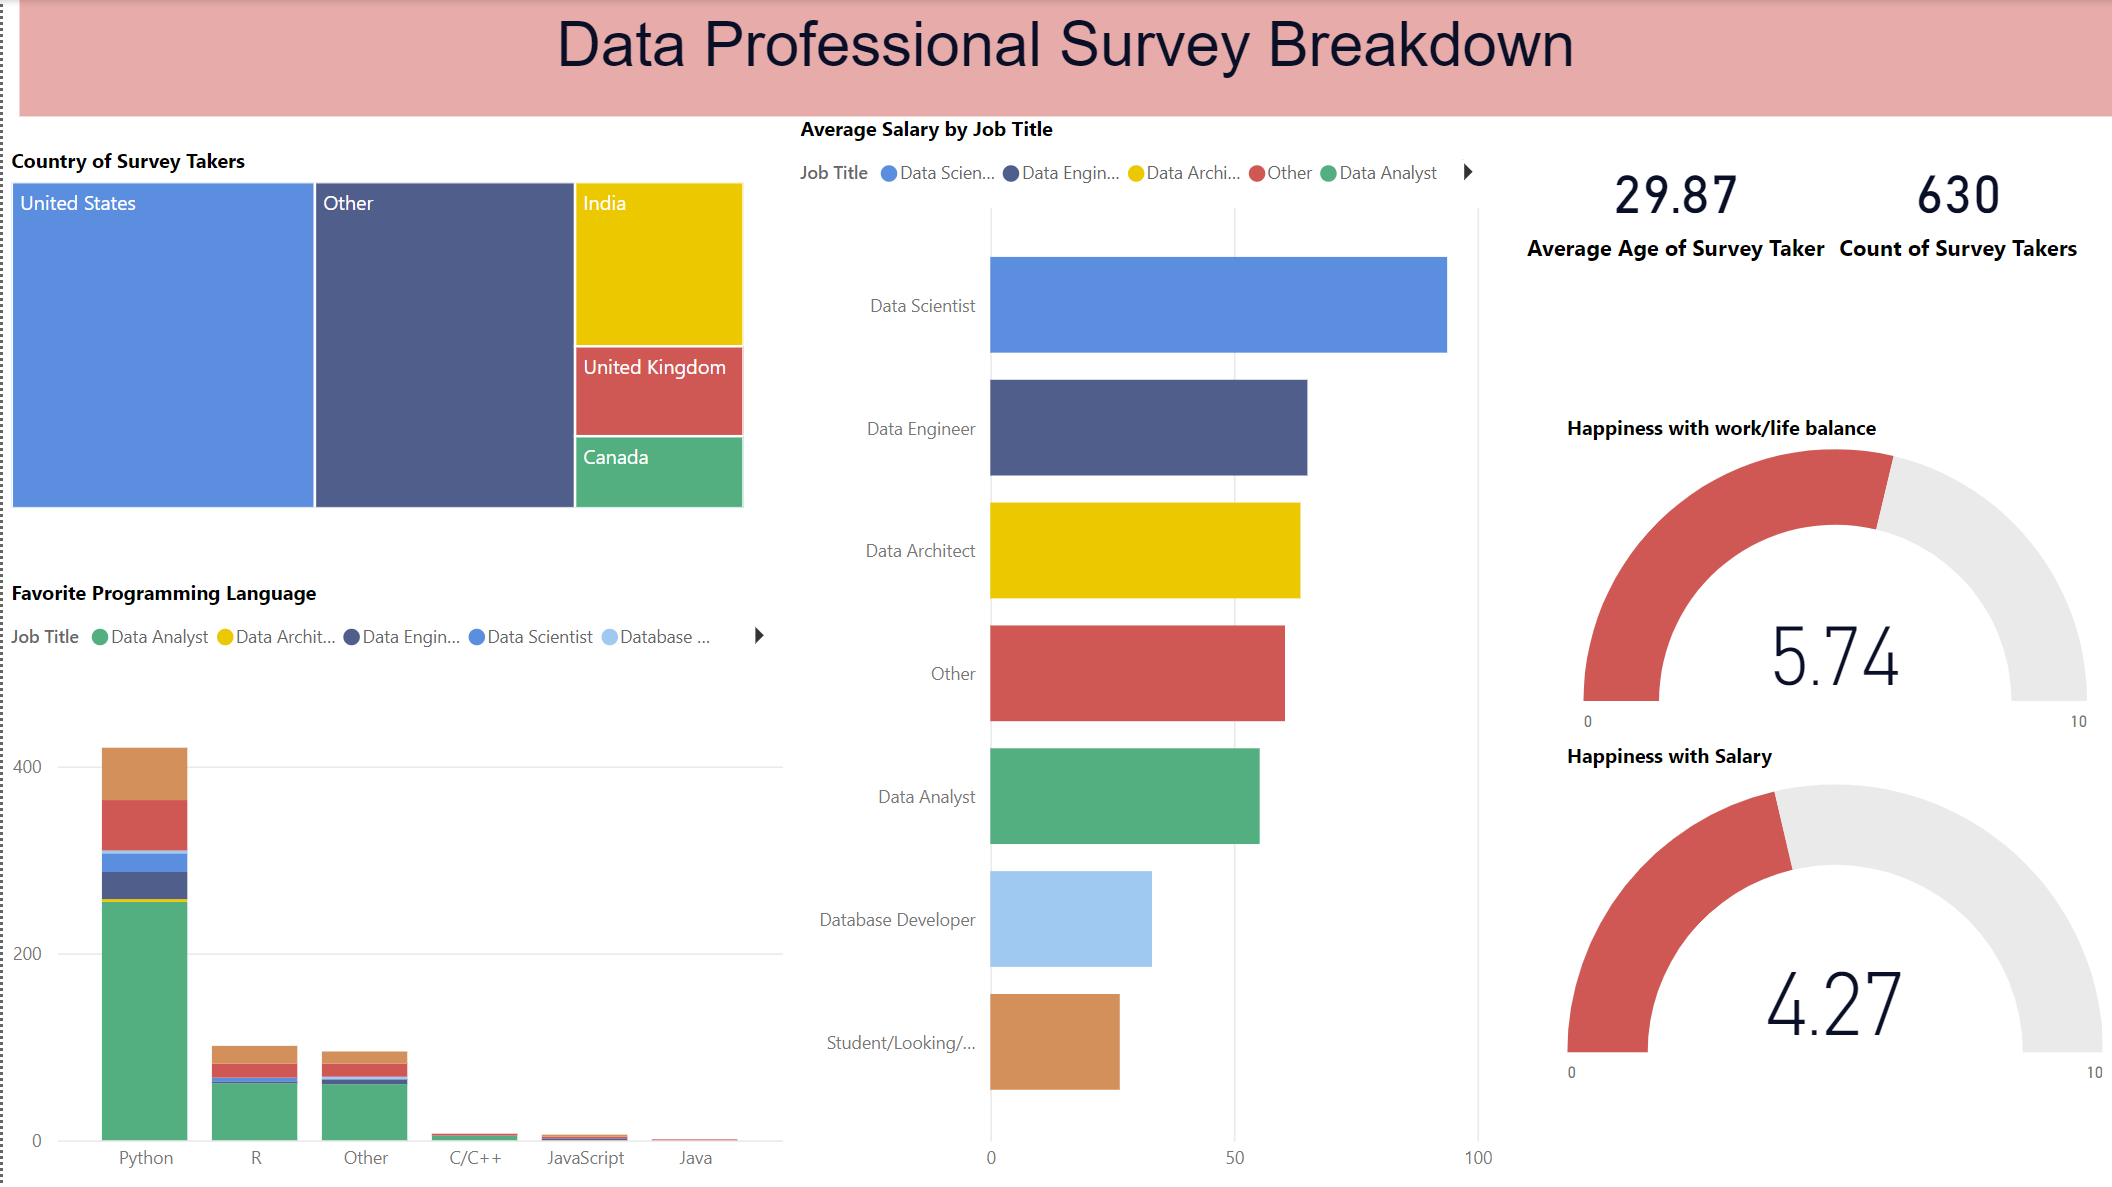

What the dashboard file says about the page in this screenshot:
{"tool":"powerbi","page":{"name":"Page 1","canvas":[1280,720],"ordinal":0},"visuals":[{"type":"textbox","box":[9.7,0,1269.8,70.8],"z":0},{"type":"card","fields":{"Values":["Count(Data Professional Survey.Unique ID)"]},"box":[1092.6,71.1,187.8,106.1],"z":1000},{"type":"card","fields":{"Values":["Avg(Data Professional Survey.Q10 - Current Age)"]},"box":[897.4,71.1,234.4,106.1],"z":2000},{"type":"barChart","title":"Average Salary by Job Title","fields":{"Y":["Avg(Data Professional Survey.Average Salary)"],"Category":["Data Professional Survey.Q1 - Which Title Best Fits your Current Role?.1"],"Series":["Data Professional Survey.Q1 - Which Title Best Fits your Current Role?.1"]},"box":[478.4,70,429.6,649.2],"z":3000},{"type":"columnChart","title":"Favorite Programming Language","fields":{"Category":["Data Professional Survey.Q5 - Favorite Programming Language.1"],"Y":["CountNonNull(Data Professional Survey.Unique ID)"],"Series":["Data Professional Survey.Q1 - Which Title Best Fits your Current Role?.1"]},"box":[0,351.3,478.5,368.3],"z":4000},{"type":"treemap","title":"Country of Survey Takers","fields":{"Group":["Data Professional Survey.Q11 - Which Country do you live in?.1"],"Values":["CountNonNull(Data Professional Survey.Q11 - Which Country do you live in?.1)"]},"box":[0,89.1,454,223.8],"z":5000},{"type":"gauge","title":"Happiness with work/life balance","fields":{"Y":["Avg(Data Professional Survey.Q6 - How Happy are you in your Current Position with the following? (Work/Life Balance))"],"MinValue":["Min(Data Professional Survey.Q6 - How Happy are you in your Current Position with the following? (Work/Life Balance))"],"MaxValue":["Max(Data Professional Survey.Q6 - How Happy are you in your Current Position with the following? (Work/Life Balance))"]},"box":[944.1,251.4,335.2,199.4],"z":5001},{"type":"gauge","title":"Happiness with Salary","fields":{"Y":["Avg(Data Professional Survey.Q6 - How Happy are you in your Current Position with the following? (Salary))"],"MinValue":["Min(Data Professional Survey.Q6 - How Happy are you in your Current Position with the following? (Salary))"],"MaxValue":["Max(Data Professional Survey.Q6 - How Happy are you in your Current Position with the following? (Salary))"]},"box":[944.1,450.8,335.2,217.5],"z":5002}]}

Visuals, with their boxes in screenshot pixels (x1, y1, x2, y2), scaled from the page's 1280x720 canvas onto the 2112x1187 screenshot:
textbox: box=[16, 0, 2111, 117]
card - Count(Data Professional Survey.Unique ID): box=[1803, 117, 2111, 292]
card - Avg(Data Professional Survey.Q10 - Current Age): box=[1481, 117, 1867, 292]
"Average Salary by Job Title" barChart: box=[789, 115, 1498, 1186]
"Favorite Programming Language" columnChart: box=[0, 579, 790, 1186]
"Country of Survey Takers" treemap: box=[0, 147, 749, 516]
"Happiness with work/life balance" gauge: box=[1558, 414, 2111, 743]
"Happiness with Salary" gauge: box=[1558, 743, 2111, 1102]
